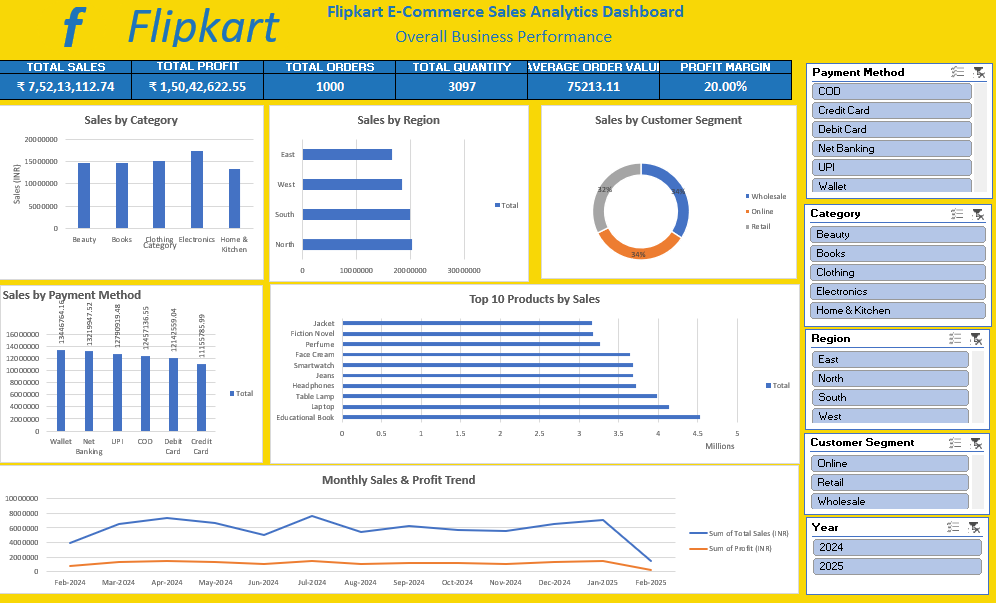

The page's visual inventory and layout, read from the dashboard file:
{"tool":"powerbi","page":{"name":"Page 1","canvas":[1280,720],"ordinal":0},"visuals":[{"type":"cardVisual","title":"Total Sales","fields":{"Data":["flipkart_sales_cleaned.Total Sales"]},"box":[1063.9,74.6,216.4,123.5],"z":0},{"type":"cardVisual","title":"Total Profit","fields":{"Data":["flipkart_sales_cleaned.Total Profit"]},"box":[846.2,74.6,217.7,123.5],"z":1000},{"type":"cardVisual","title":"Average Order Value","fields":{"Data":["flipkart_sales_cleaned.Average Order Value"]},"box":[228.7,75.8,206.7,122.3],"z":2000},{"type":"cardVisual","title":"Profit Margin","fields":{"Data":["flipkart_sales_cleaned.Profit Margin %"]},"box":[633.4,75.8,214,123.5],"z":3000},{"type":"cardVisual","title":"Total Orders","fields":{"Data":["flipkart_sales_cleaned.Total Orders"]},"box":[0,75.8,228.7,123.5],"z":4000},{"type":"cardVisual","title":"Total Quantity","fields":{"Data":["flipkart_sales_cleaned.Total Quantity"]},"box":[435.3,75.8,198.1,122.3],"z":5000},{"type":"clusteredColumnChart","title":"Sales by Category","fields":{"Category":["flipkart_sales_cleaned.category"],"Y":["flipkart_sales_cleaned.Total Sales"]},"box":[0,203,316.7,247],"z":6000},{"type":"donutChart","title":"Sales by Region","fields":{"Category":["flipkart_sales_cleaned.region"],"Y":["flipkart_sales_cleaned.Total Sales"]},"box":[324.1,204.2,316.7,245.8],"z":7000},{"type":"clusteredBarChart","title":"Top 10 Products by Sales","fields":{"Category":["flipkart_sales_cleaned.product_name"],"Y":["flipkart_sales_cleaned.Total Sales"]},"box":[651.8,204.2,326.5,245.8],"z":8000},{"type":"clusteredColumnChart","title":"Sales by Payment Method","fields":{"Category":["flipkart_sales_cleaned.payment_method"],"Y":["flipkart_sales_cleaned.Total Sales"]},"box":[0,463.5,316.7,256.8],"z":9000},{"type":"lineChart","title":"Monthly Sales Trend","fields":{"Y":["flipkart_sales_cleaned.Total Sales"],"Category":["flipkart_sales_cleaned.year_month.Variation.Date Hierarchy.Month"]},"box":[322.8,463.5,317.9,256.8],"z":10000},{"type":"donutChart","title":"Sales by Customer Segment","fields":{"Category":["flipkart_sales_cleaned.customer_segment"],"Y":["flipkart_sales_cleaned.Total Sales"]},"box":[651.8,463.5,326.5,256.8],"z":11000},{"type":"slicer","fields":{"Values":["flipkart_sales_cleaned.category"]},"box":[990.5,463.5,289.8,173.6],"z":12000},{"type":"slicer","fields":{"Values":["flipkart_sales_cleaned.region"]},"box":[990.5,317.9,289.8,145.5],"z":13000},{"type":"slicer","fields":{"Values":["flipkart_sales_cleaned.payment_method"]},"box":[990.5,199.3,289.8,118.6],"z":14000},{"type":"textbox","box":[46.5,0,1165.4,66],"z":15000},{"type":"slicer","fields":{"Values":["flipkart_sales_cleaned.year"]},"box":[990.5,637.1,289.8,83.2],"z":16000}]}

Visuals, with their boxes on the page's 1280x720 design canvas (x1, y1, x2, y2). These are canvas units, not pixel positions in the 996x603 screenshot, which may show the page scaled, cropped or inside an application window:
"Total Sales" cardVisual: [1064, 75, 1280, 198]
"Total Profit" cardVisual: [846, 75, 1064, 198]
"Average Order Value" cardVisual: [229, 76, 435, 198]
"Profit Margin" cardVisual: [633, 76, 847, 199]
"Total Orders" cardVisual: [0, 76, 229, 199]
"Total Quantity" cardVisual: [435, 76, 633, 198]
"Sales by Category" clusteredColumnChart: [0, 203, 317, 450]
"Sales by Region" donutChart: [324, 204, 641, 450]
"Top 10 Products by Sales" clusteredBarChart: [652, 204, 978, 450]
"Sales by Payment Method" clusteredColumnChart: [0, 464, 317, 720]
"Monthly Sales Trend" lineChart: [323, 464, 641, 720]
"Sales by Customer Segment" donutChart: [652, 464, 978, 720]
slicer - flipkart_sales_cleaned.category: [990, 464, 1280, 637]
slicer - flipkart_sales_cleaned.region: [990, 318, 1280, 463]
slicer - flipkart_sales_cleaned.payment_method: [990, 199, 1280, 318]
textbox: [46, 0, 1212, 66]
slicer - flipkart_sales_cleaned.year: [990, 637, 1280, 720]
